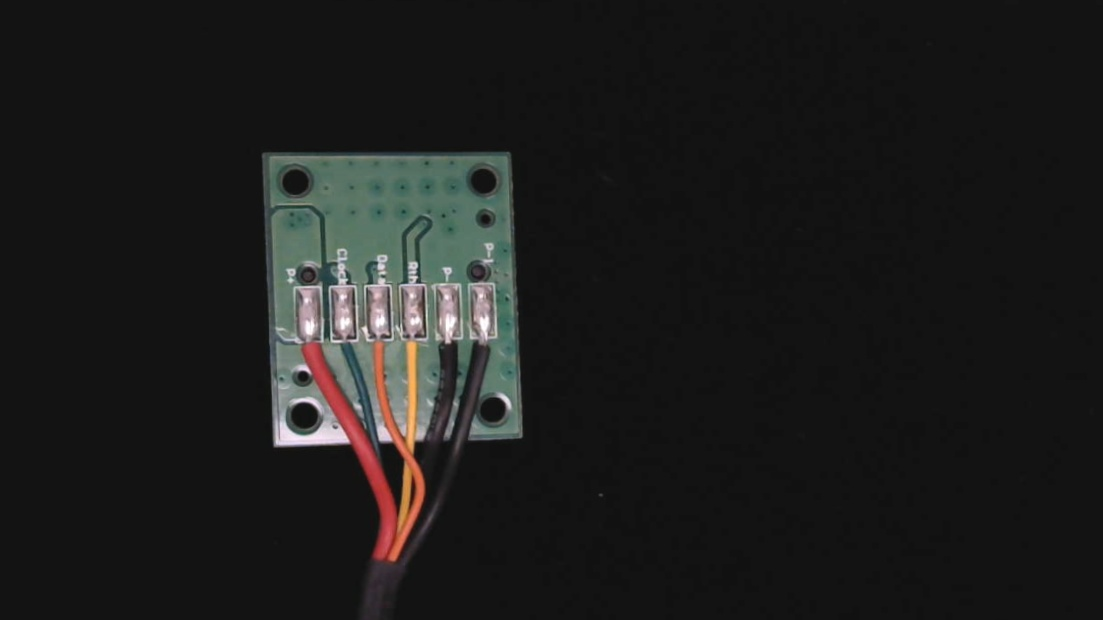Black: (432, 323, 463, 388)
Black1: (468, 325, 499, 384)
Green: (331, 324, 360, 373)
Orange: (365, 325, 395, 381)
Red: (296, 321, 328, 383)
Yellow: (396, 325, 428, 390)
